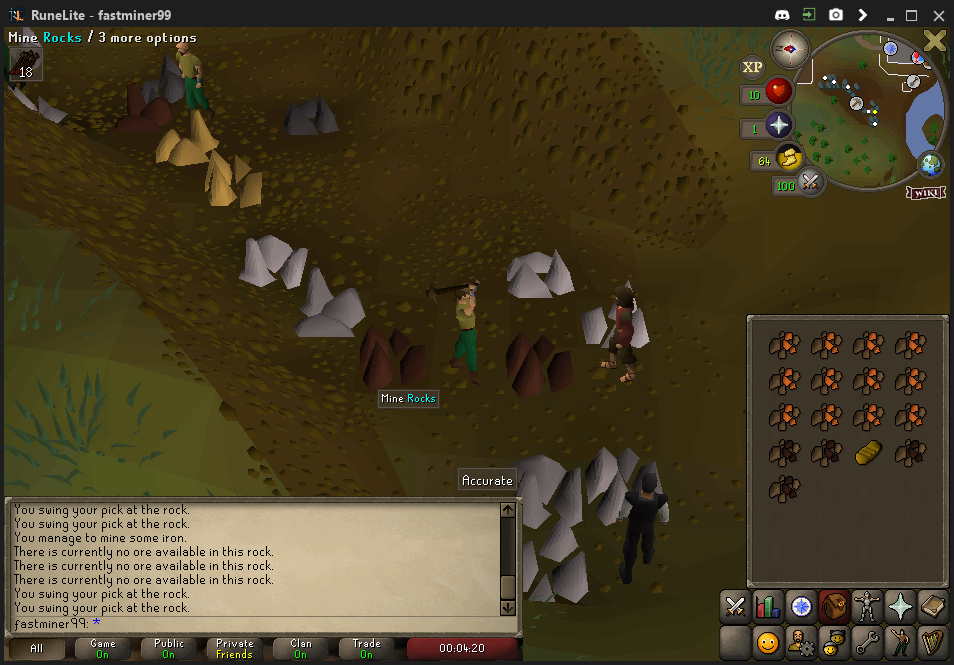ore: (358, 326, 435, 390), (501, 334, 571, 396)
